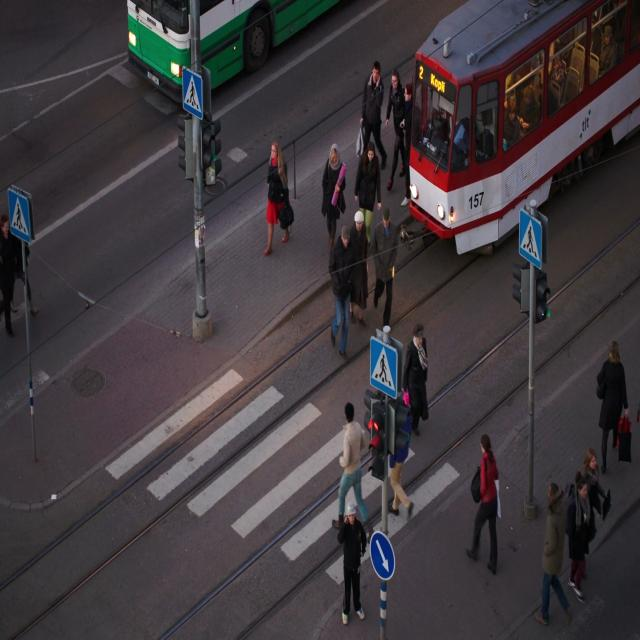pedestrian: (329, 130, 399, 357), (332, 402, 370, 528), (473, 435, 498, 572), (398, 323, 428, 434), (322, 145, 345, 241), (389, 453, 413, 514), (364, 62, 383, 114), (361, 116, 370, 129)
